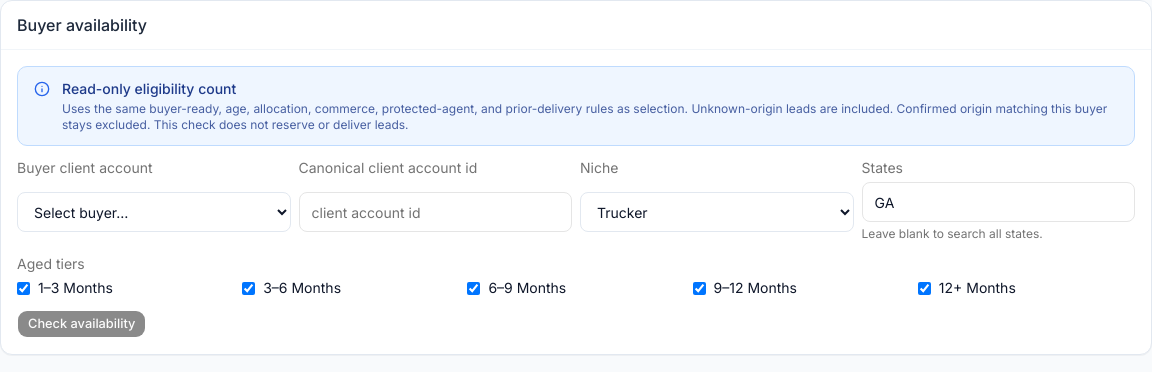
Test: BuyerAvailabilityPanel › rejects invalid state text instead of searching all states
The image size is (1152, 372).
In the field with test id "buyer-availability-client-id": coordinates (435, 212) [298,192,572,232], type "client_jr_laird"
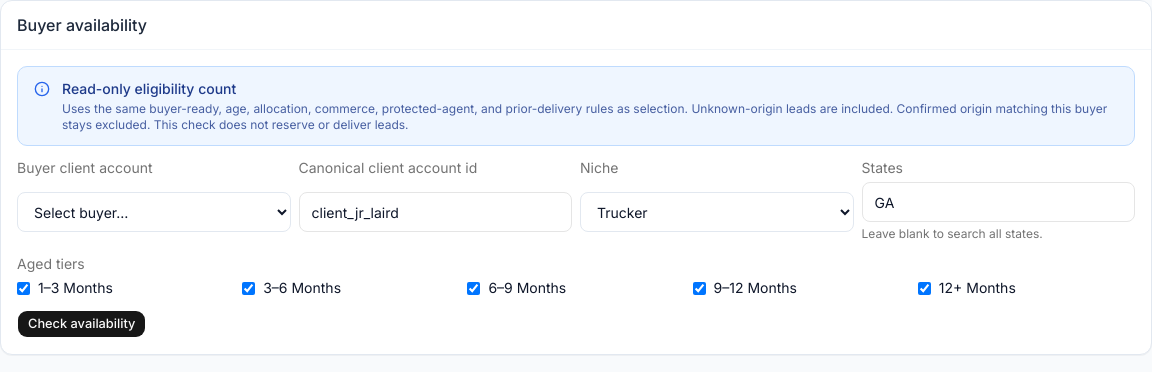
Replace the text in the field with test id "buyer-availability-states" with "GA ZZ": coordinates (998, 202) [862,182,1135,222]
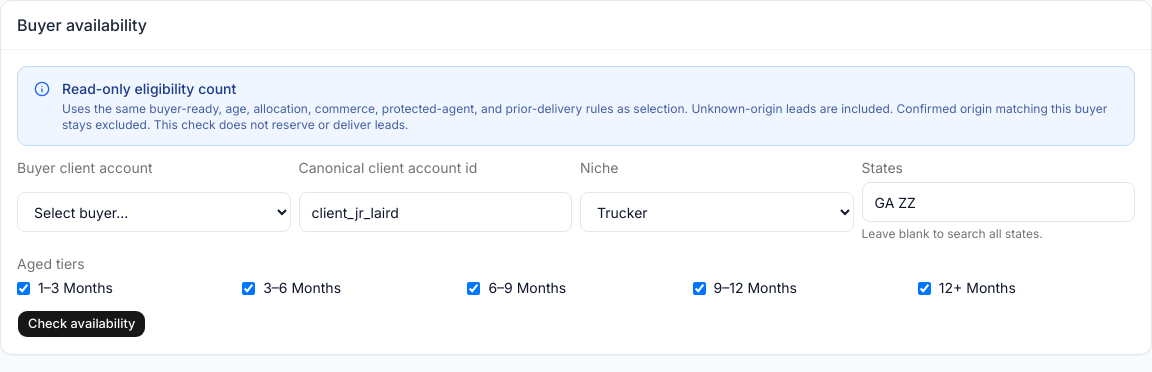
Click the button with test id "buyer-availability-submit": coordinates (82, 324) [17,310,146,338]
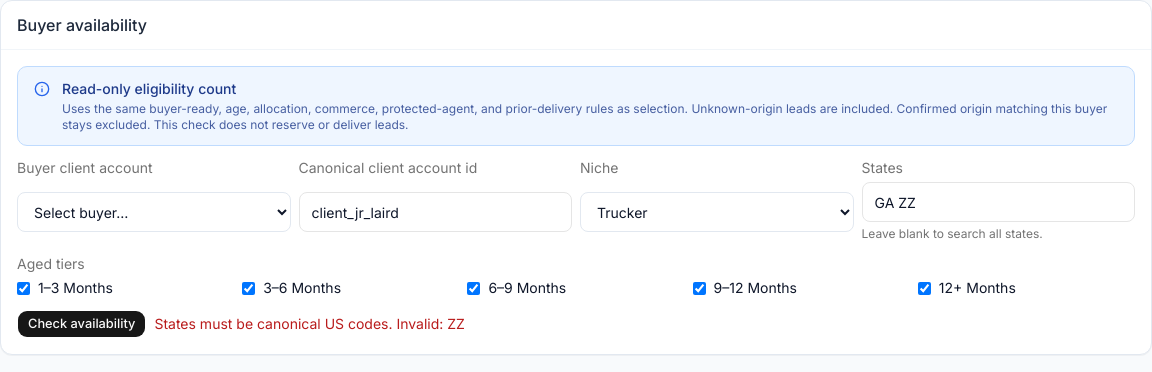
Expected: the text with test id "buyer-availability-error" shows "Invalid: ZZ", [154,315,465,332]
